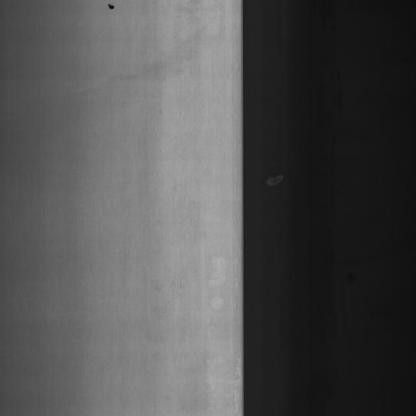inclusion: (106, 1, 116, 15)
